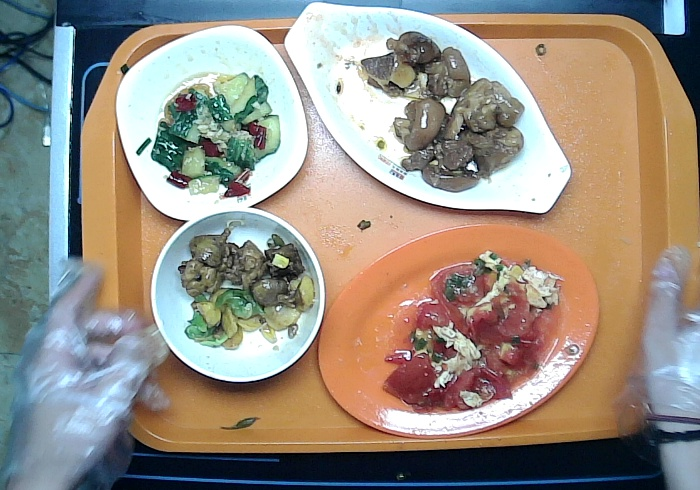NLDX-Bai_Se_Xiao_Fang_Die: (113, 23, 309, 222)
NLDX-Fan_Wan: (147, 205, 327, 385)
NLDX-Ju_Se_Pan: (317, 221, 601, 439)
NLDX-Yu_Pan: (282, 1, 573, 215)
